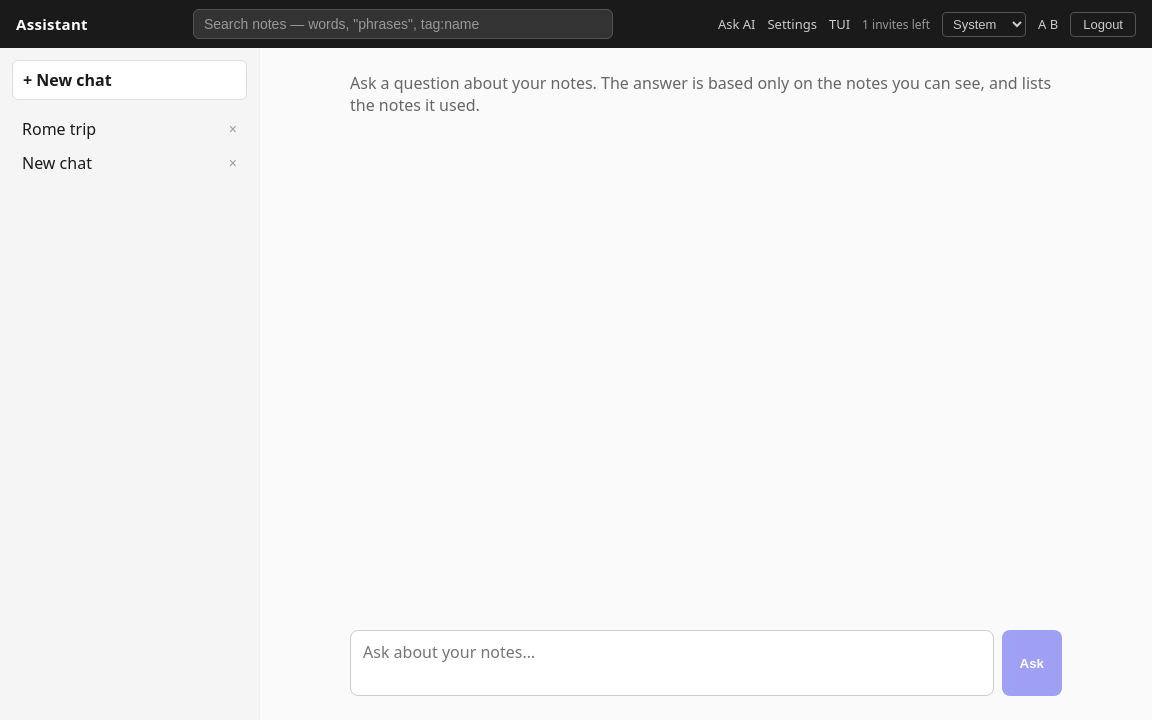
Test case: AskPage asking › creates a thread on the first question and streams the answer
Type "When was I in Rome?" into the text box named "Question" at (672, 663), box [350,630,994,696]
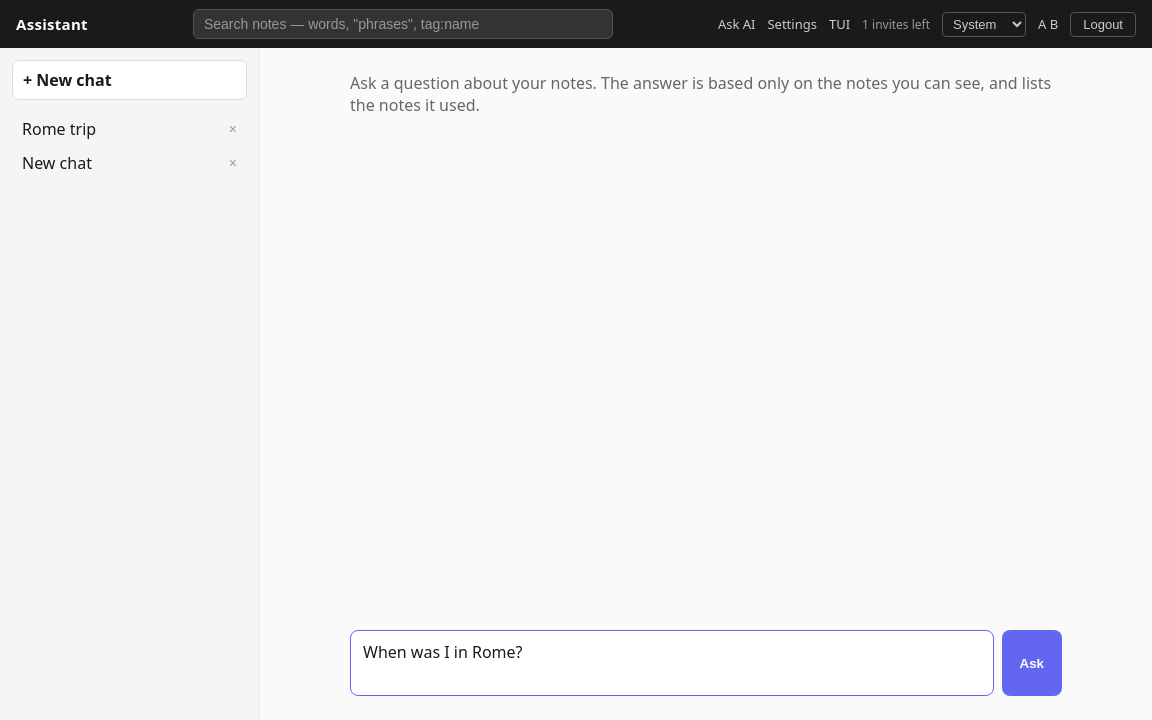
Click the button "Ask" at (1032, 663), box [1002,630,1062,696]
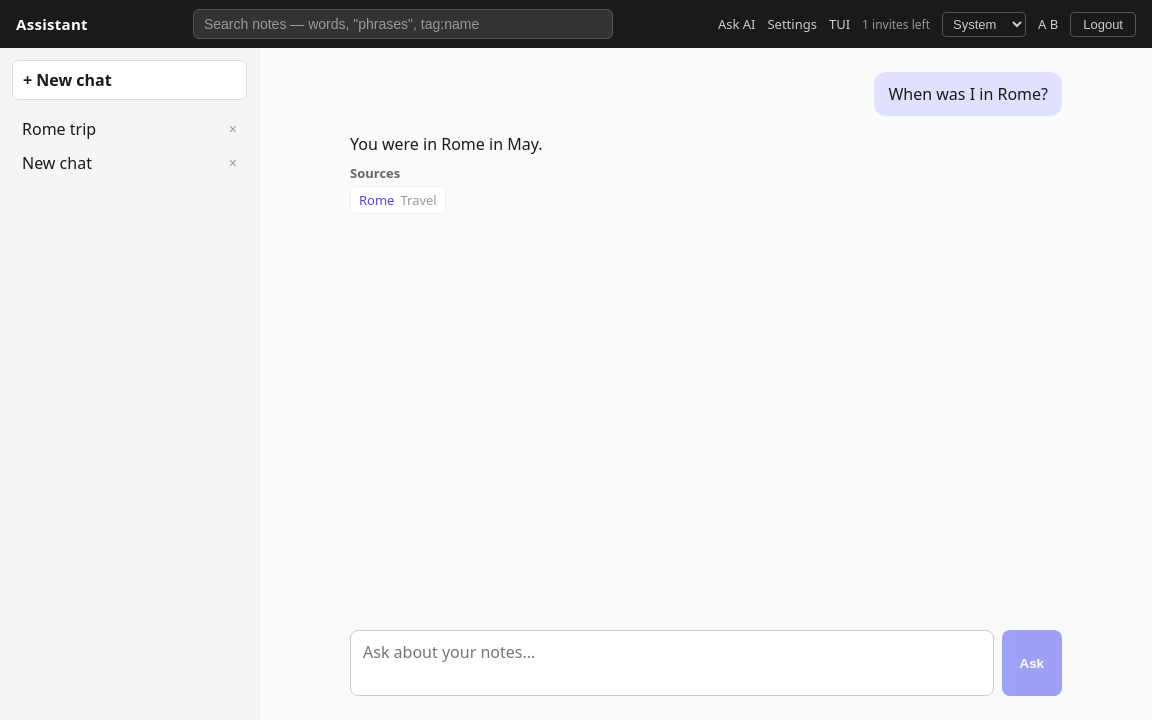
Now the text "You were in Rome in May." is shown, box [350,133,542,155]
Now the text "When was I in Rome?" is shown, box [888,82,1048,106]
